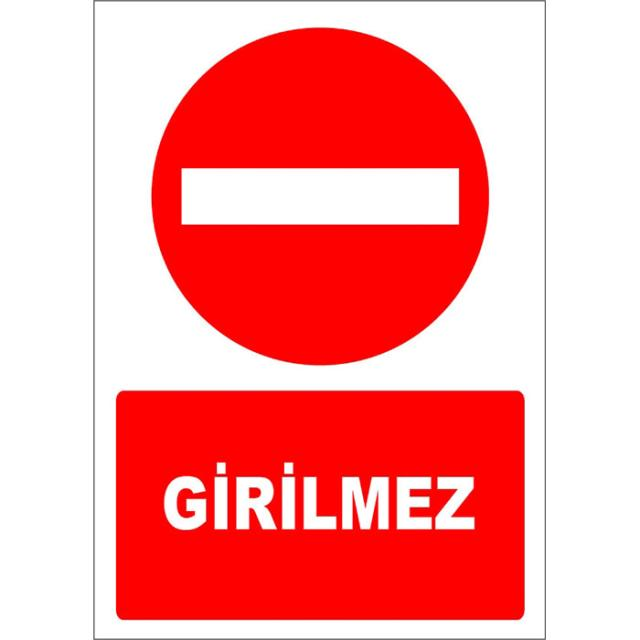Sens-Interdit: (147, 21, 496, 368)
